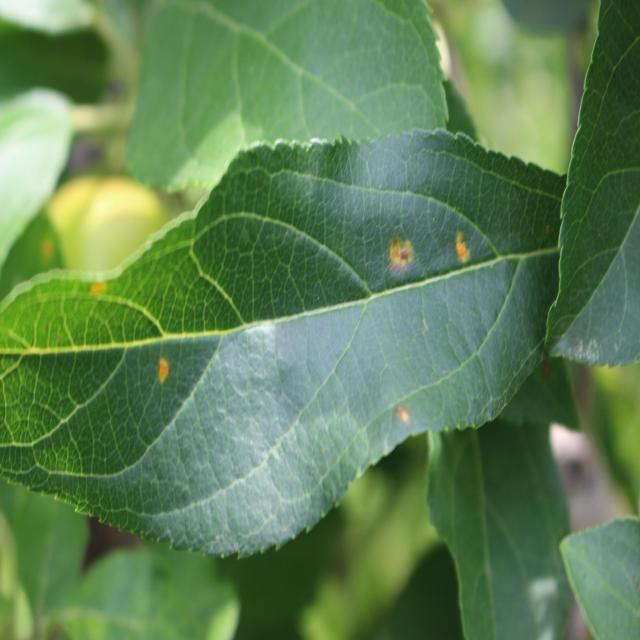Rust: (384, 228, 417, 282), (453, 223, 472, 279), (34, 233, 59, 270), (390, 404, 418, 432), (80, 280, 114, 302), (152, 354, 172, 390)
